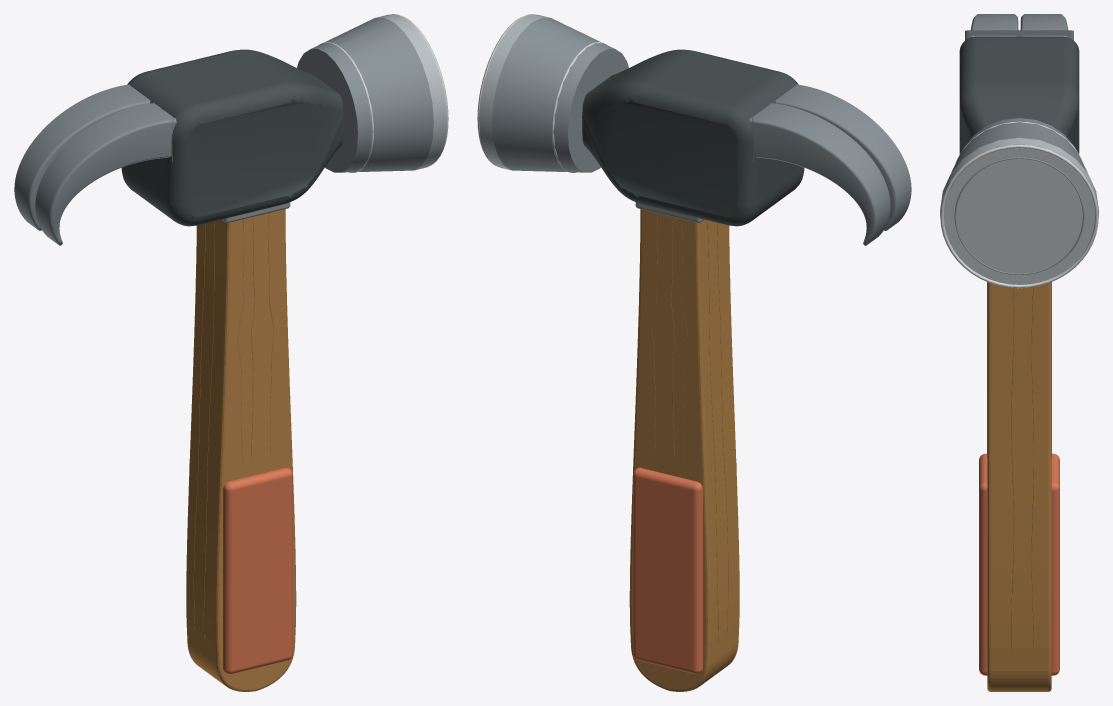
File: workshop-hammer-clean-neck.glb
3 renders of one model, left to right at view 1: azimuth 30°, elevation 25°; view 2: azimuth 150°, elevation 25°; view 3: azimuth 270°, elevation 25°, orthographic.
Parts seen in each view (by area): view 1: Wood_Handle, steelInset, steel, Grip_Front, Claw_Back, Claw_Front, steelEdge; view 2: Wood_Handle, steelInset, steel, Grip_Back, Claw_Front, Claw_Back, steelEdge; view 3: Wood_Handle, steelEdge, steelInset, steel, Grip_Front, Grip_Back, Polished_Striking_Rim, Claw_Front, Claw_Back, Machined_Face_Groove, Side_Wood_Right_2, Side_Wood_Right_5.
Part boxes in pixels (x1,y1,x2,y2): Wood_Handle: (186,209,296,691); steelInset: (121,49,343,226); steel: (172,17,433,172); Grip_Front: (223,467,292,674); Claw_Back: (35,103,176,245); Claw_Front: (14,84,150,230); steelEdge: (375,14,446,170); Wood_Handle: (629,209,739,691); steelInset: (582,49,804,226); steel: (492,17,753,172); Grip_Back: (633,467,702,674); Claw_Front: (749,103,890,245); Claw_Back: (775,84,911,230); steelEdge: (479,14,550,170); Wood_Handle: (987,282,1051,691); steelEdge: (940,137,1098,284); steelInset: (959,36,1079,153); steel: (951,30,1087,172); Grip_Front: (979,453,987,675); Grip_Back: (1051,453,1059,675); Polished_Striking_Rim: (940,144,1098,288); Claw_Front: (1020,14,1068,37); Claw_Back: (970,14,1018,37); Machined_Face_Groove: (954,157,1084,274); Side_Wood_Right_2: (1031,287,1034,652); Side_Wood_Right_5: (1011,288,1014,652).
Size of the model in its own units: 0.2603 by 0.408 by 0.094.
